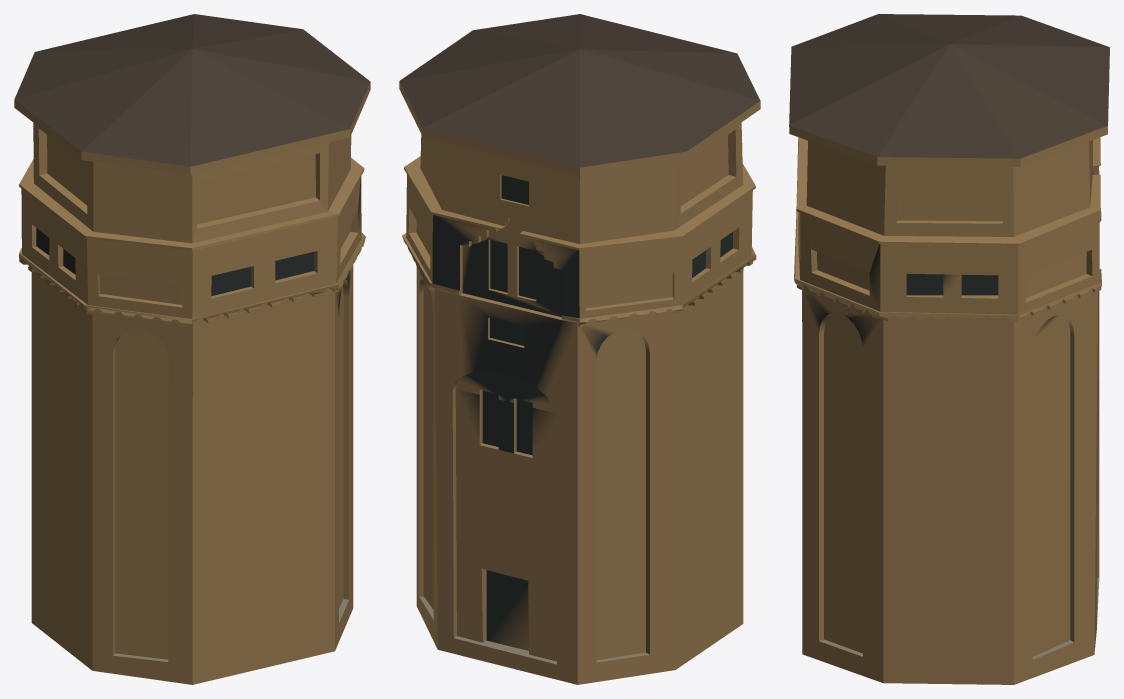
3 views of the same model, side by side, from view 1: azimuth 30°, elevation 25°; view 2: azimuth 150°, elevation 25°; view 3: azimuth 270°, elevation 25° (orthographic).
Visible parts, largest first — view 1: pCylinder93:PIV; view 2: pCylinder93:PIV; view 3: pCylinder93:PIV.
Part boxes in pixels (box(x1,y1,x2,y2)): pCylinder93:PIV: box(14, 14, 370, 684); pCylinder93:PIV: box(399, 14, 760, 684); pCylinder93:PIV: box(789, 14, 1109, 684).
Size of the model in its own units: 15.19 by 28.18 by 14.23.
